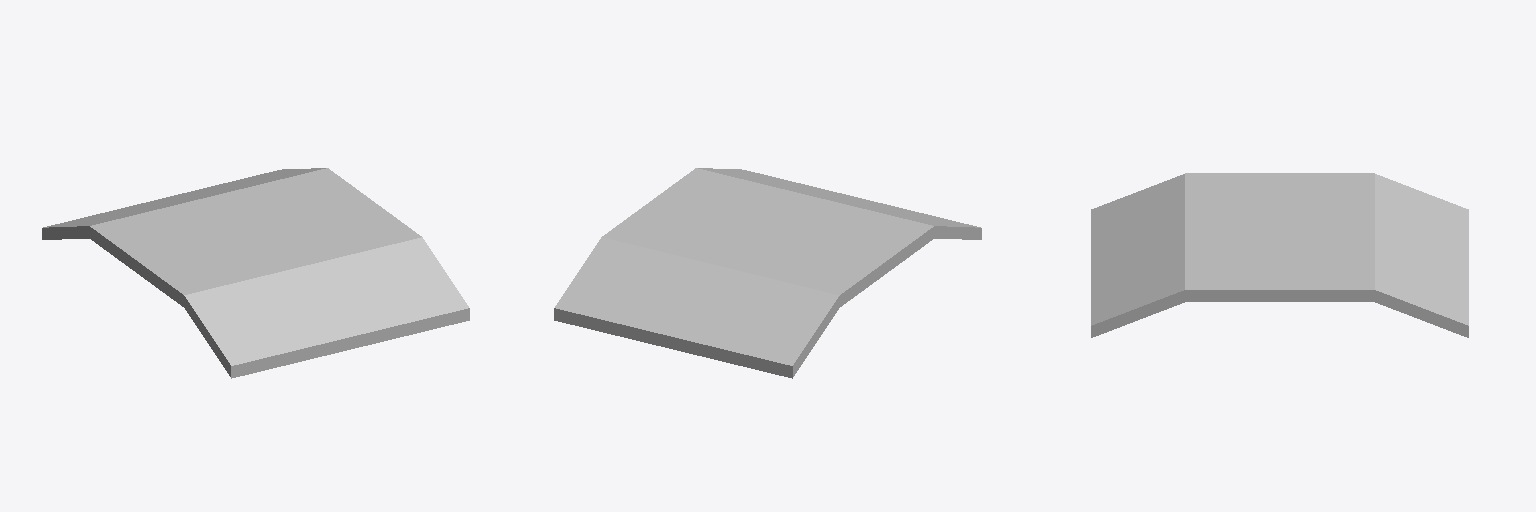
Rendered from house69.obj.
3 views of the same model, side by side, from view 1: azimuth 30°, elevation 25°; view 2: azimuth 150°, elevation 25°; view 3: azimuth 270°, elevation 25° (orthographic).
Parts seen in each view (by area): view 1: 立方体.098; view 2: 立方体.098; view 3: 立方体.098.
Part boxes in pixels (bbox=[...]): 立方体.098: bbox=[42, 168, 469, 378]; 立方体.098: bbox=[554, 168, 981, 378]; 立方体.098: bbox=[1091, 173, 1468, 337].
Size of the model in its own units: 80 by 15.63 by 110.